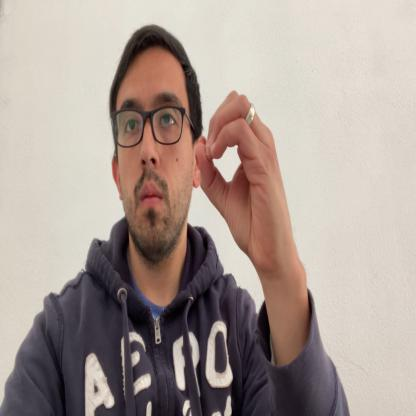O: (195, 91, 286, 276)
